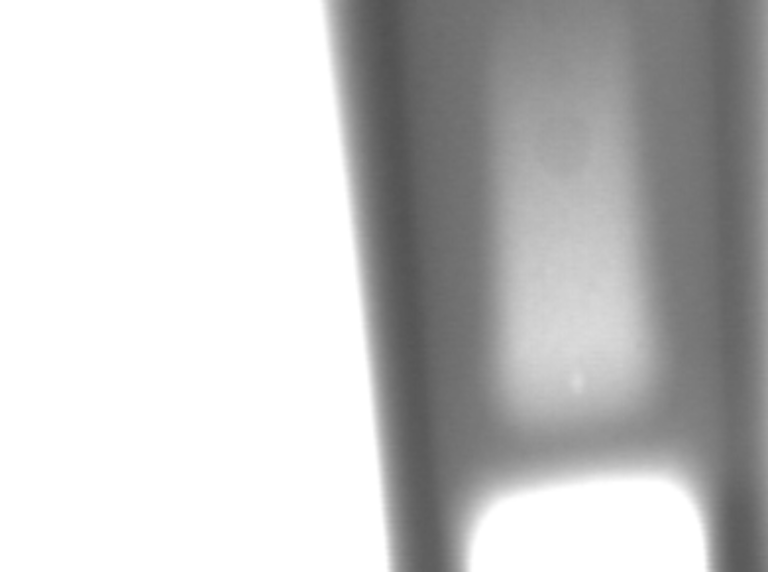defect: (572, 374, 589, 410)
